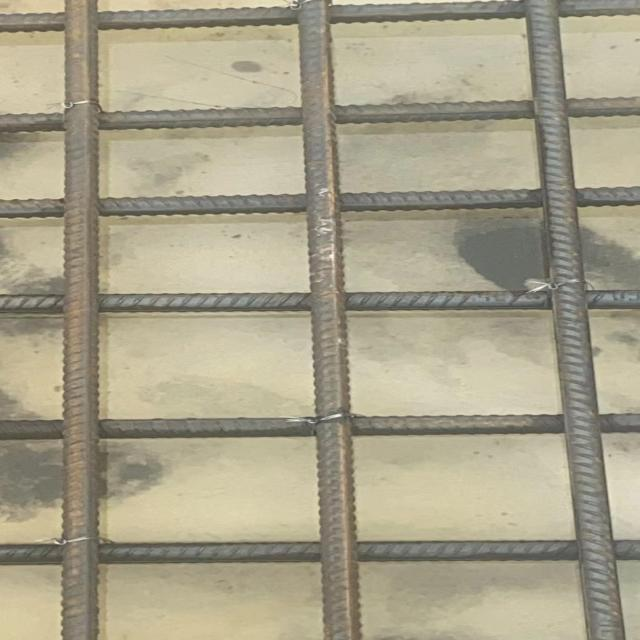ribbed bar: (524, 0, 625, 639), (296, 0, 363, 639), (59, 0, 100, 639), (0, 95, 639, 133), (0, 187, 639, 221), (0, 0, 639, 32), (0, 414, 639, 442), (0, 288, 639, 315), (0, 540, 639, 566)
